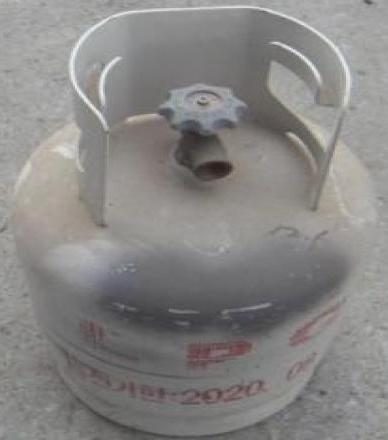cylinder: (1, 1, 388, 440)
